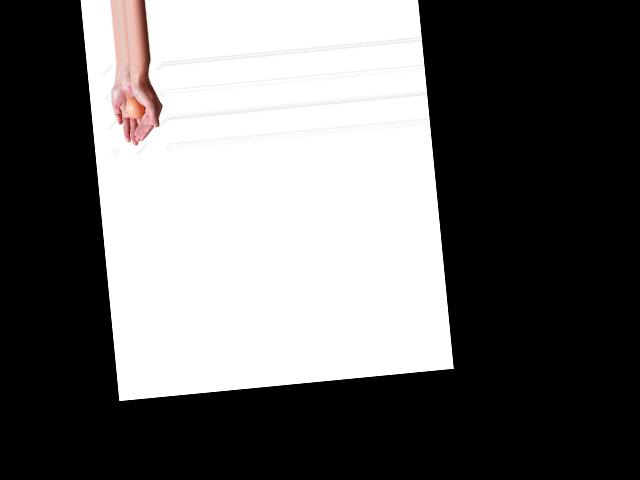egg: (126, 97, 145, 119)
